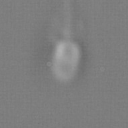abnormal: (46, 1, 93, 40)
